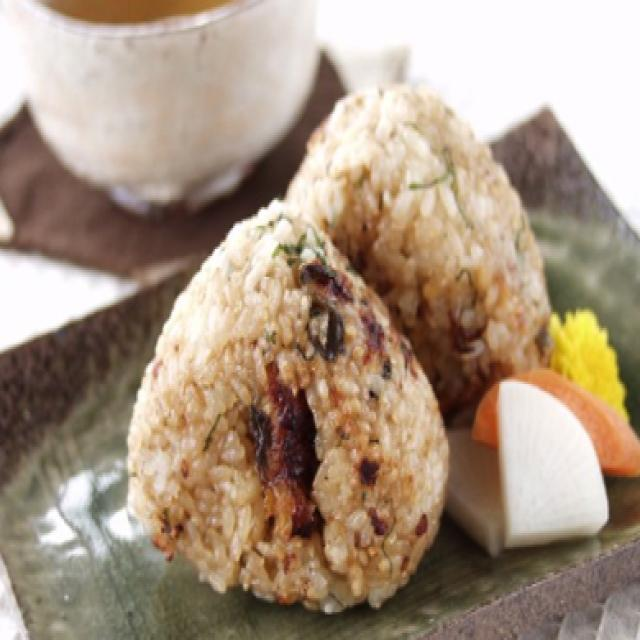米饭主食: (339, 114, 640, 640), (140, 321, 570, 640)
